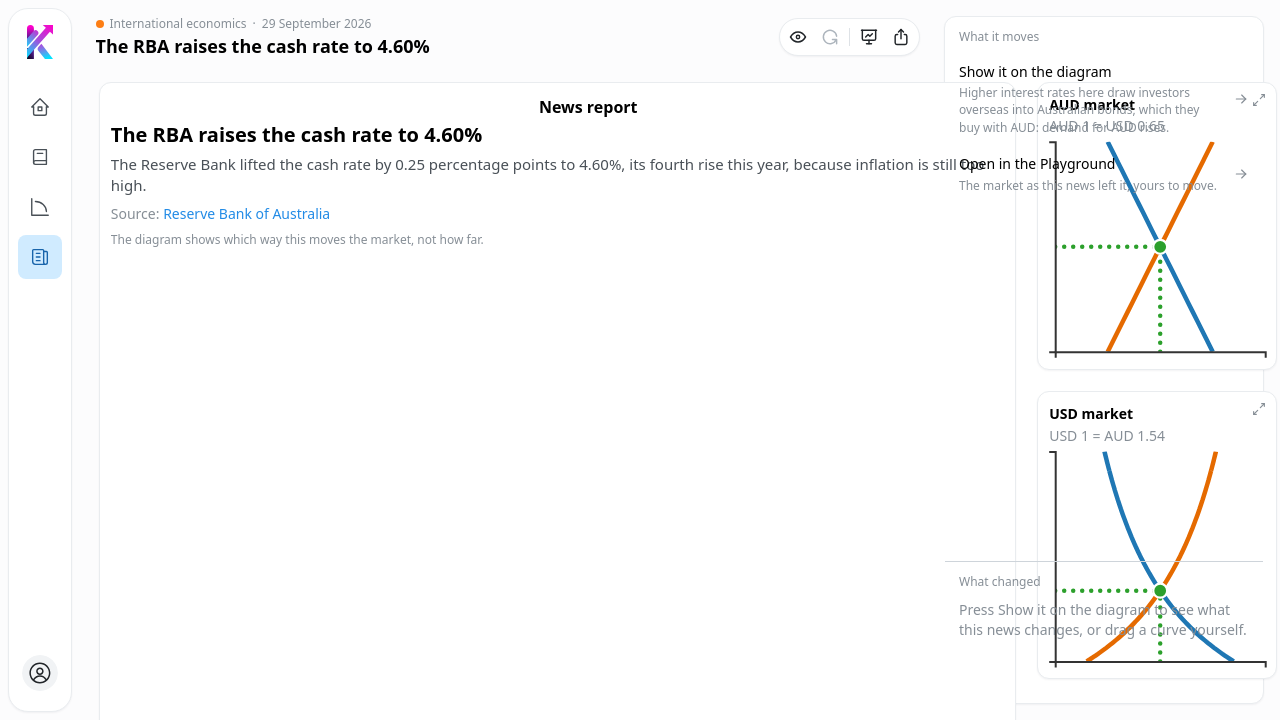
Test: A story's page › makes its move as a scenario does, and "What changed" tells the chain
Click the button "Show it on the diagram".
click(1104, 99)  # box 951,54 -> 1257,144
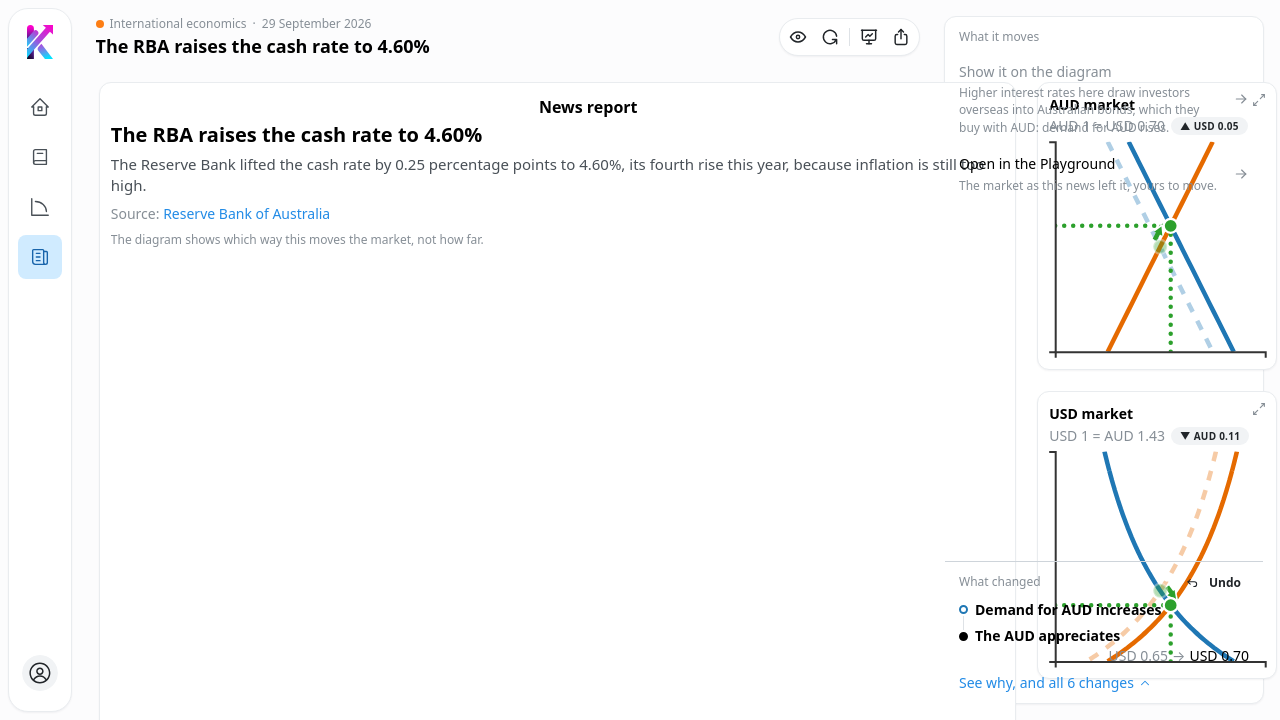
Expected: the element "What changed" shows "Demand for AUD increases", 975,600 -> 1162,619
Expected: the element "What changed" shows "The AUD appreciates", 975,626 -> 1120,645
Expected: the button "Show it on the diagram" is disabled, 951,54 -> 1257,144
Note: Undo takes it back, as it does a scenario.
Click the button "Undo".
click(1214, 583)  # box 1179,572 -> 1249,594
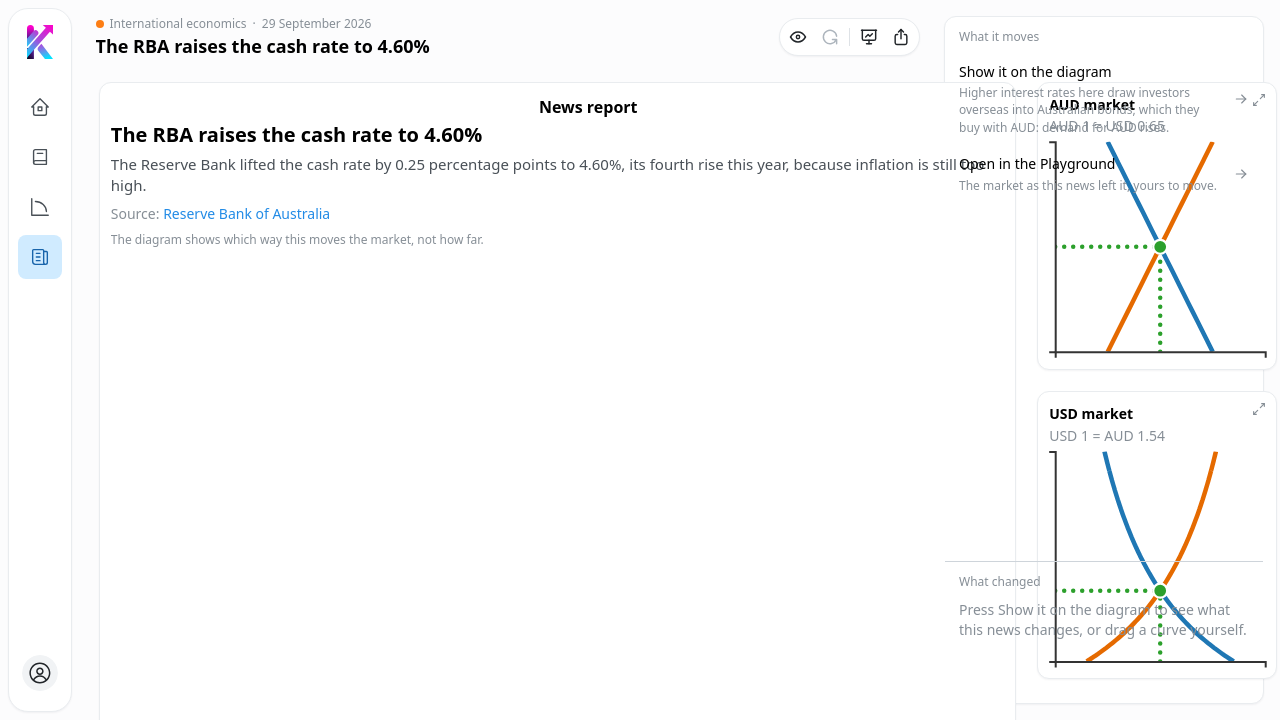
Expected: the button "Show it on the diagram" is enabled, 951,54 -> 1257,144
